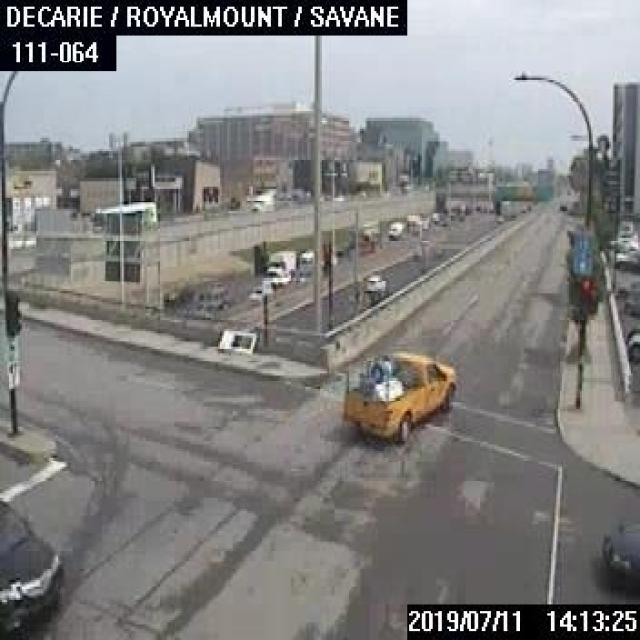vehicle: (338, 346, 456, 444), (0, 491, 62, 625), (596, 527, 638, 593), (178, 277, 228, 308), (264, 248, 296, 274), (262, 265, 291, 286), (247, 279, 273, 301), (624, 319, 638, 359), (614, 247, 638, 270), (362, 274, 387, 294), (386, 219, 403, 237)
